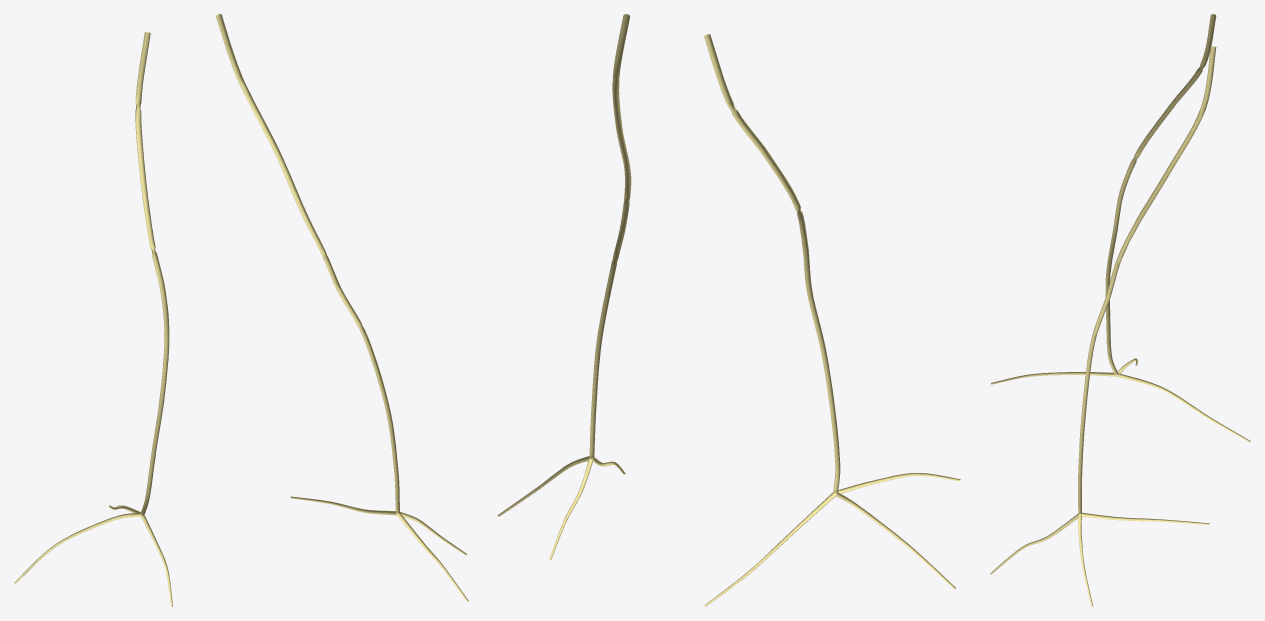
File: anatomyverse-phrenic.glb
3 renders of one model, left to right at view 1: azimuth 30°, elevation 25°; view 2: azimuth 150°, elevation 25°; view 3: azimuth 270°, elevation 25°, orthographic. The views are drawn at different scales.
Visible parts, largest first — view 1: zp_phrenic_l, zp_phrenic_r; view 2: zp_phrenic_r, zp_phrenic_l; view 3: zp_phrenic_l, zp_phrenic_r.
Boxes of the visible parts, x1=… form: zp_phrenic_l: x1=216, y1=14, x2=468, y2=601; zp_phrenic_r: x1=14, y1=32, x2=172, y2=606; zp_phrenic_r: x1=704, y1=34, x2=960, y2=606; zp_phrenic_l: x1=497, y1=14, x2=631, y2=560; zp_phrenic_l: x1=990, y1=46, x2=1216, y2=606; zp_phrenic_r: x1=991, y1=14, x2=1250, y2=442.
Size of the model in its own units: 0.2536 by 0.3028 by 0.1486.
